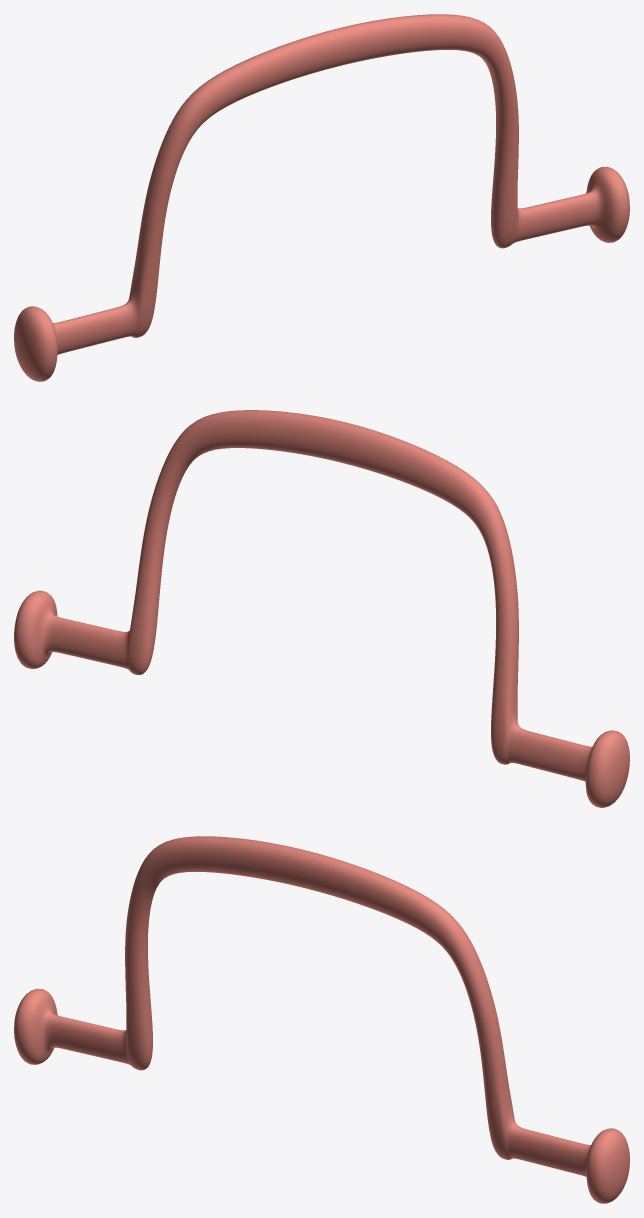
Rendered from wheelSupport.fbx.
3 renders of one model, top to bottom at view 1: azimuth 30°, elevation 25°; view 2: azimuth 150°, elevation 25°; view 3: azimuth 330°, elevation 25°, orthographic.
Parts seen in each view (by area): view 1: wheel_support; view 2: wheel_support; view 3: wheel_support.
Part boxes in pixels (<box>): wheel_support: <box>14,14,629,381</box>; wheel_support: <box>14,410,629,807</box>; wheel_support: <box>14,836,629,1203</box>.
Bounding box in the file's own units: 0.6448 × 0.3057 × 0.0792.
